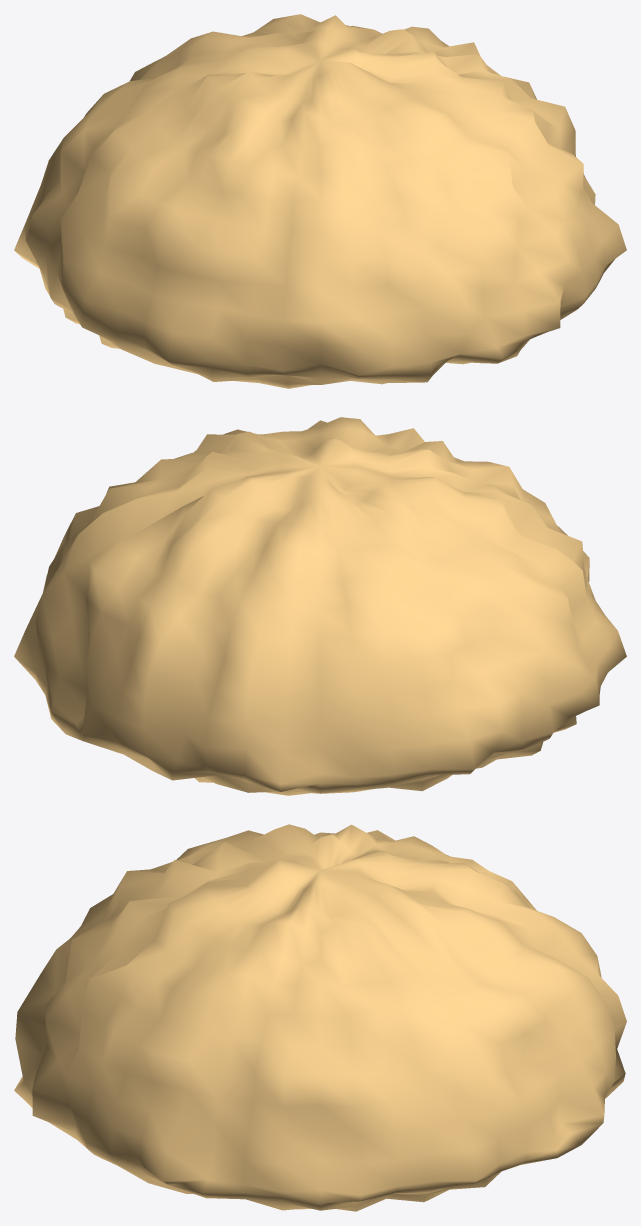
File: coral_brain.glb
3 views of the same model, one above another, from view 1: azimuth 30°, elevation 25°; view 2: azimuth 150°, elevation 25°; view 3: azimuth 270°, elevation 25° (orthographic). The views are drawn at different scales.
Visible parts, largest first — view 1: Sphere; view 2: Sphere; view 3: Sphere.
Part boxes in pixels (x1,y1,x2,y2): Sphere: (14,14,626,388); Sphere: (14,417,626,795); Sphere: (14,824,626,1211).
Size of the model in its own units: 2.28 by 1.1 by 2.28.
